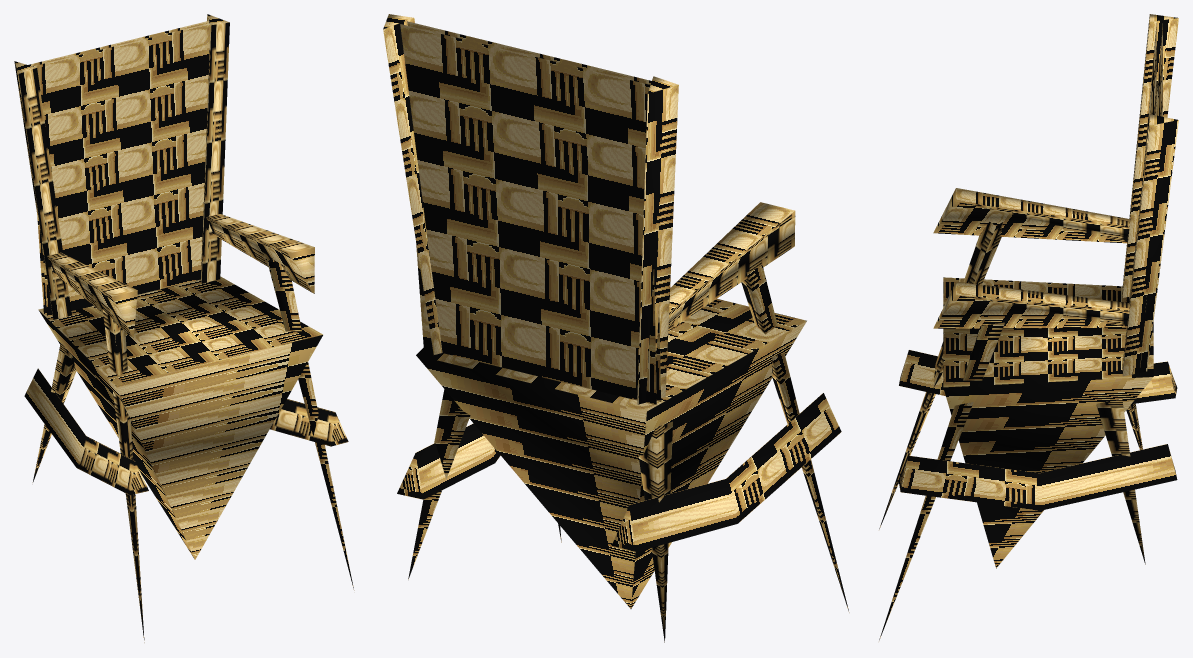
The model's file is 3068IMRL04_09.gltf.
3 renders of one model, left to right at view 1: azimuth 30°, elevation 25°; view 2: azimuth 150°, elevation 25°; view 3: azimuth 270°, elevation 25°, orthographic. The views are drawn at different scales.
Parts seen in each view (by area): view 1: 3068IMRL04_09; view 2: 3068IMRL04_09; view 3: 3068IMRL04_09.
Boxes of the visible parts, bbox=[...] form: 3068IMRL04_09: bbox=[14, 14, 354, 642]; 3068IMRL04_09: bbox=[383, 14, 849, 642]; 3068IMRL04_09: bbox=[879, 14, 1178, 640].
Size of the model in its own units: 0.855 by 1.79 by 0.939.
Materials: 1 (1 with a texture image).
